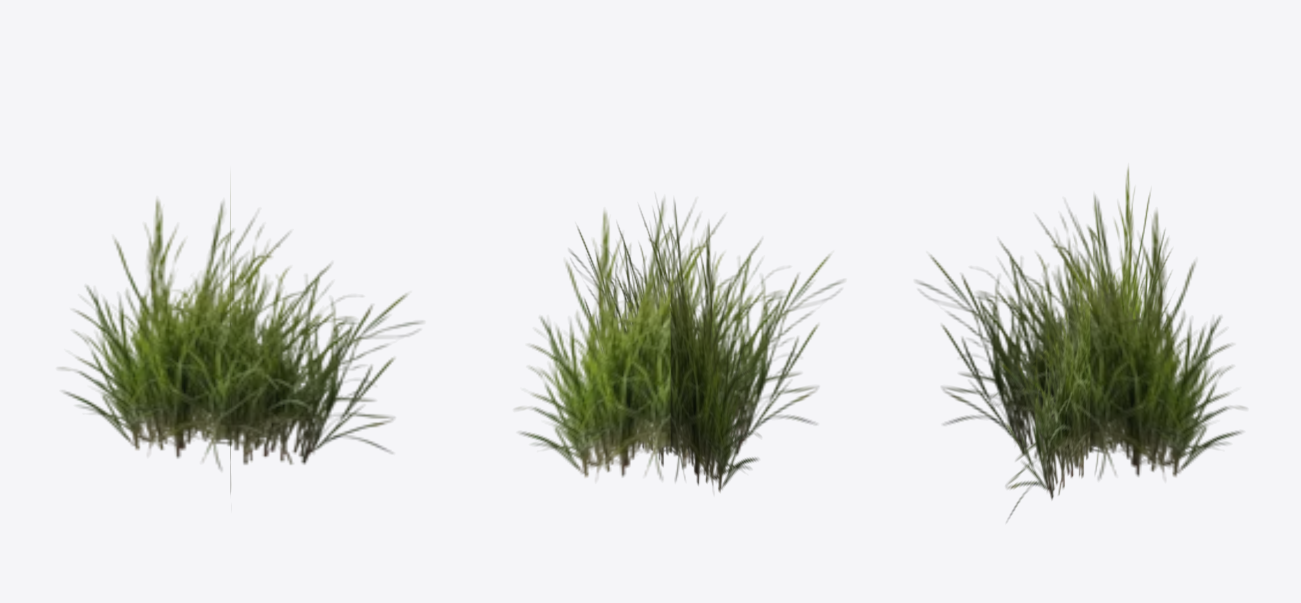
The model's file is overgrown-card-a.glb.
3 views of the same model, side by side, from view 1: azimuth 30°, elevation 25°; view 2: azimuth 150°, elevation 25°; view 3: azimuth 270°, elevation 25° (orthographic). The views are drawn at different scales.
Visible parts, largest first — view 1: Plane|Plane001|Dupli|369; view 2: Plane|Plane001|Dupli|369; view 3: Plane|Plane001|Dupli|369.
Part boxes in pixels (left/top/right/bottom): Plane|Plane001|Dupli|369: left=59, top=193, right=421, bottom=492; Plane|Plane001|Dupli|369: left=516, top=199, right=843, bottom=492; Plane|Plane001|Dupli|369: left=917, top=167, right=1245, bottom=521.
Bounding box in the file's own units: 6.51 × 7.5 × 6.51.
1 material, 1 textured.
